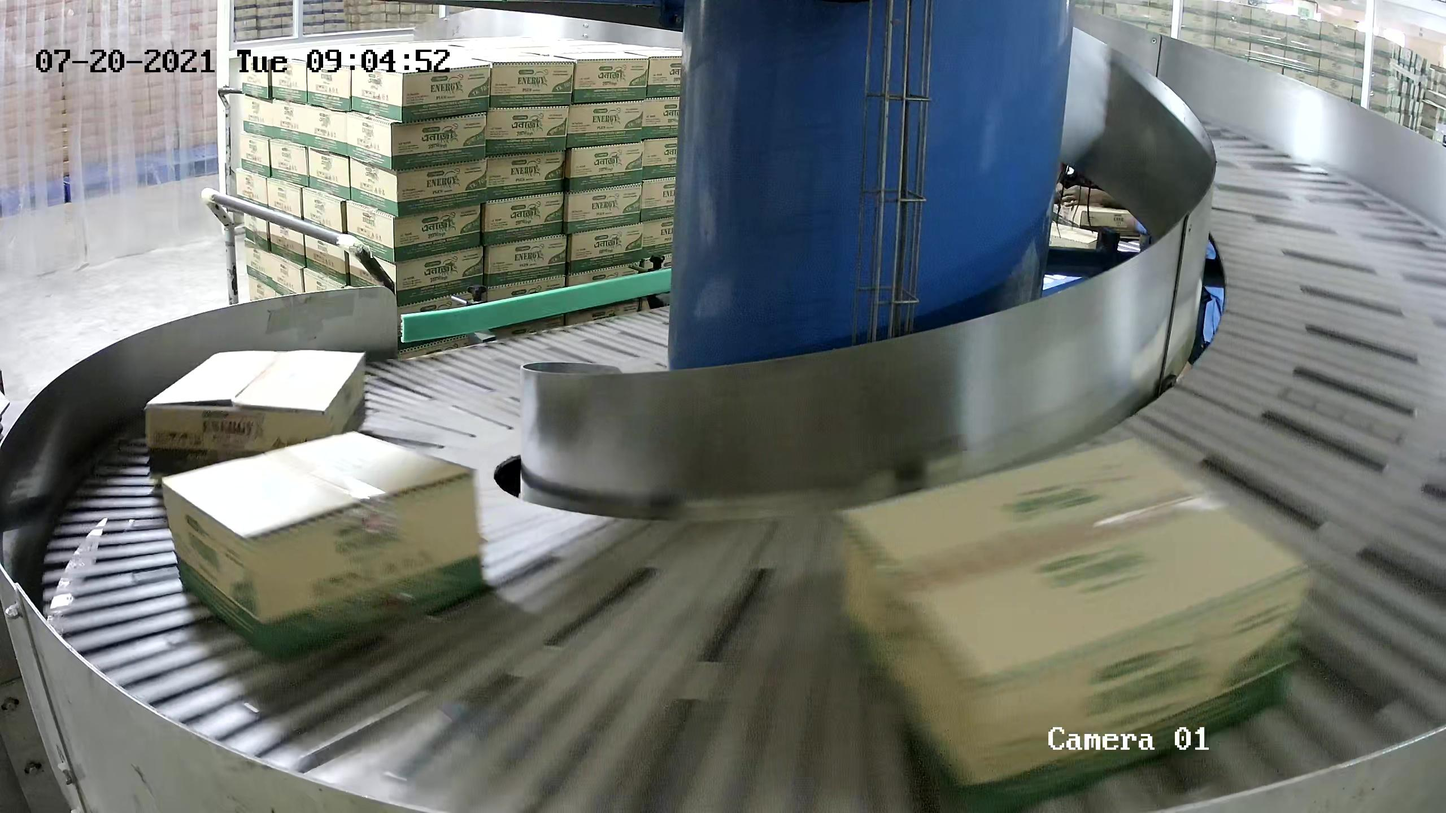Box: (830, 434, 1321, 813), (161, 431, 486, 665), (144, 350, 372, 483)
